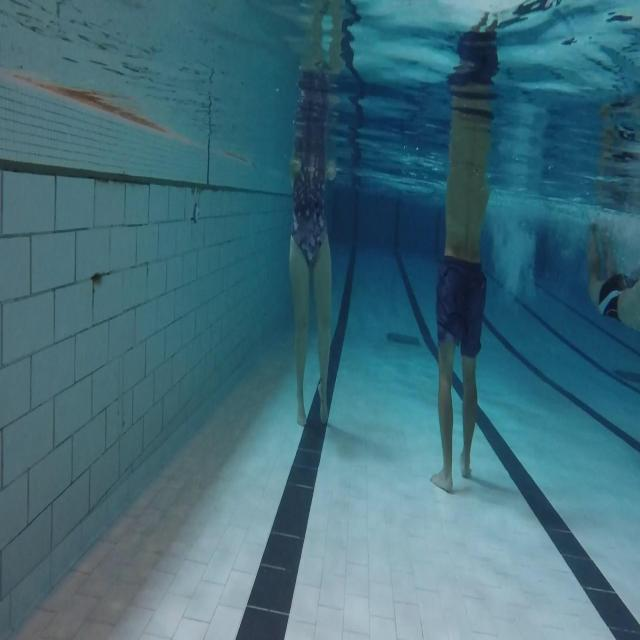human: (429, 12, 500, 493), (288, 64, 334, 427), (586, 220, 639, 332)
